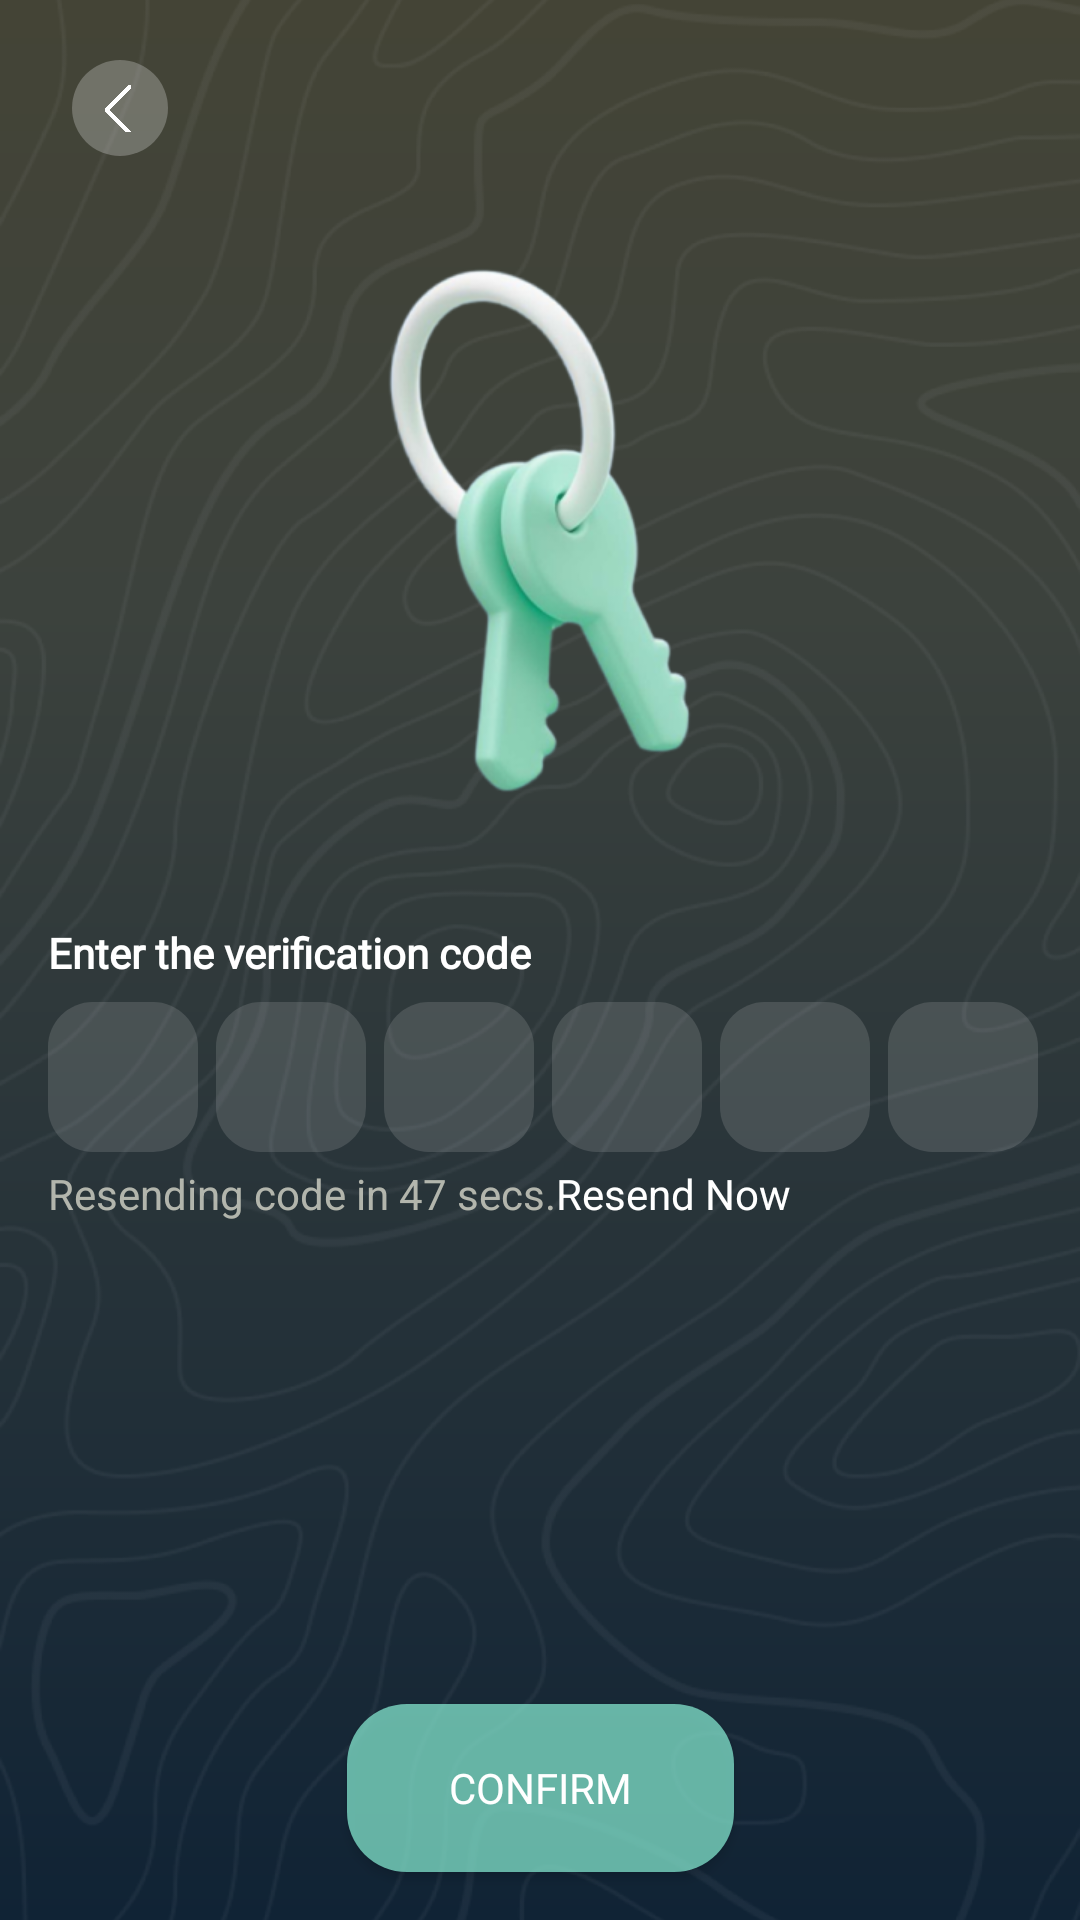

Icon bounding boxes for this 1080w x 1920h phone screenshot, format (x1, y1, x2, y2):
arrow back: (105, 85, 131, 132)
